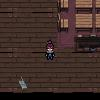Hide: (71, 33, 99, 52)
Obstacle: (73, 11, 94, 33), (53, 12, 72, 33), (73, 0, 94, 12), (53, 0, 73, 12), (94, 11, 100, 33), (94, 0, 100, 12)
Victim: (43, 39, 57, 61)
Win: (16, 73, 29, 92)
